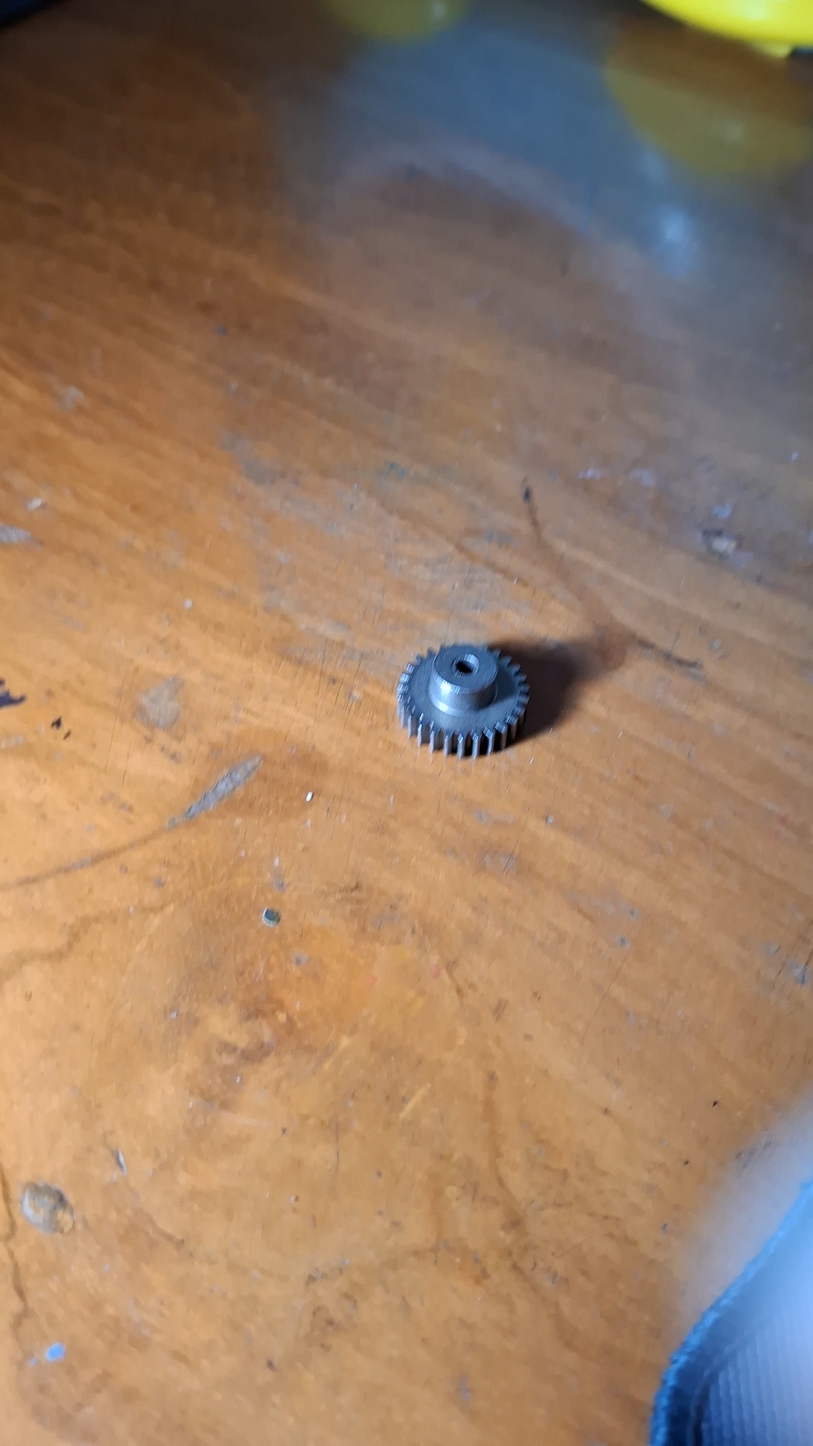spur gear: (397, 644, 528, 757)
